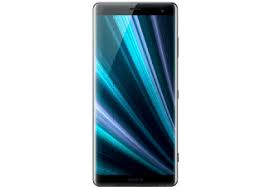sony: (88, 1, 181, 187)
